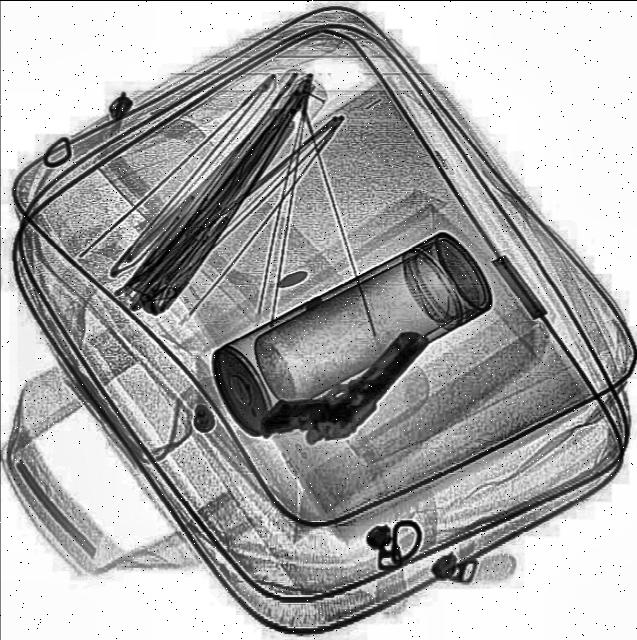Gun: (253, 296, 431, 476)
